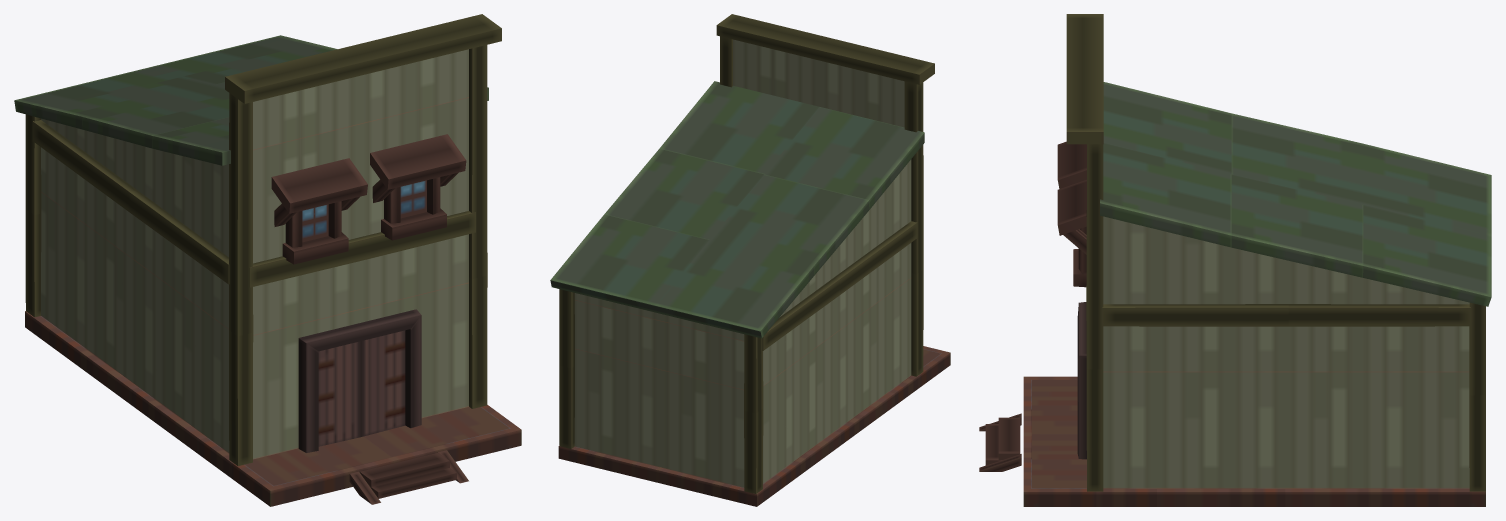
The model's file is house_v4_033.fbx.
3 renders of one model, left to right at view 1: azimuth 30°, elevation 25°; view 2: azimuth 150°, elevation 25°; view 3: azimuth 270°, elevation 25°, orthographic. The views are drawn at different scales.
Parts seen in each view (by area): view 1: house_v4_033; view 2: house_v4_033; view 3: house_v4_033.
Part boxes in pixels (x1,y1,x2,y2): house_v4_033: (14, 14, 521, 506); house_v4_033: (550, 14, 950, 506); house_v4_033: (979, 14, 1491, 506).
Size of the model in its own units: 451 by 647 by 798.
